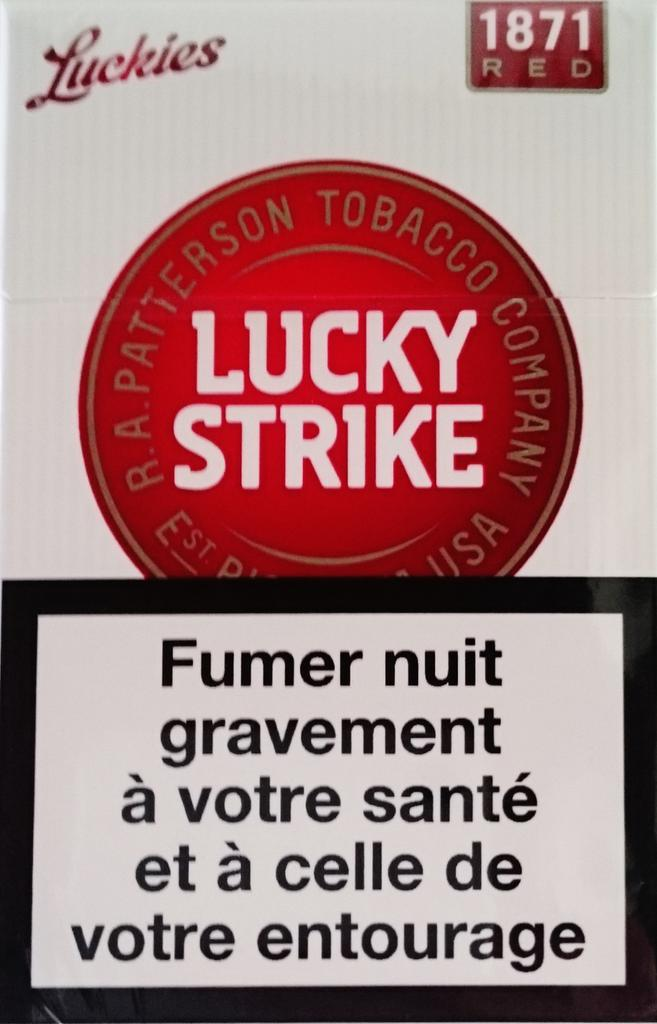lucky_strike_red: (13, 1, 655, 1019)
